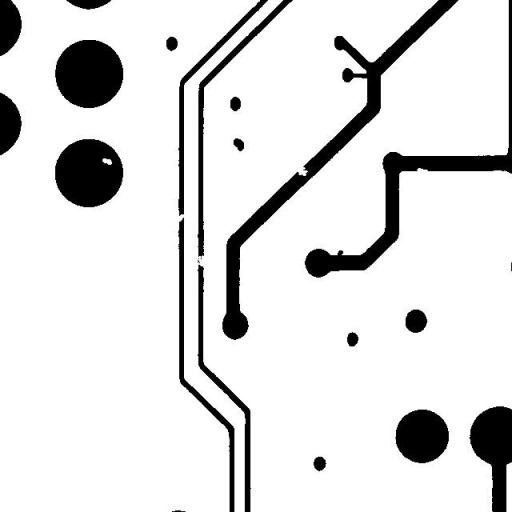copper: (226, 130, 251, 158)
mousebite: (290, 158, 315, 183), (409, 160, 435, 179)
open: (187, 247, 213, 274), (166, 206, 192, 230)
pin-hole: (94, 150, 120, 172)
short: (342, 66, 378, 86)
spur: (330, 242, 350, 265)
